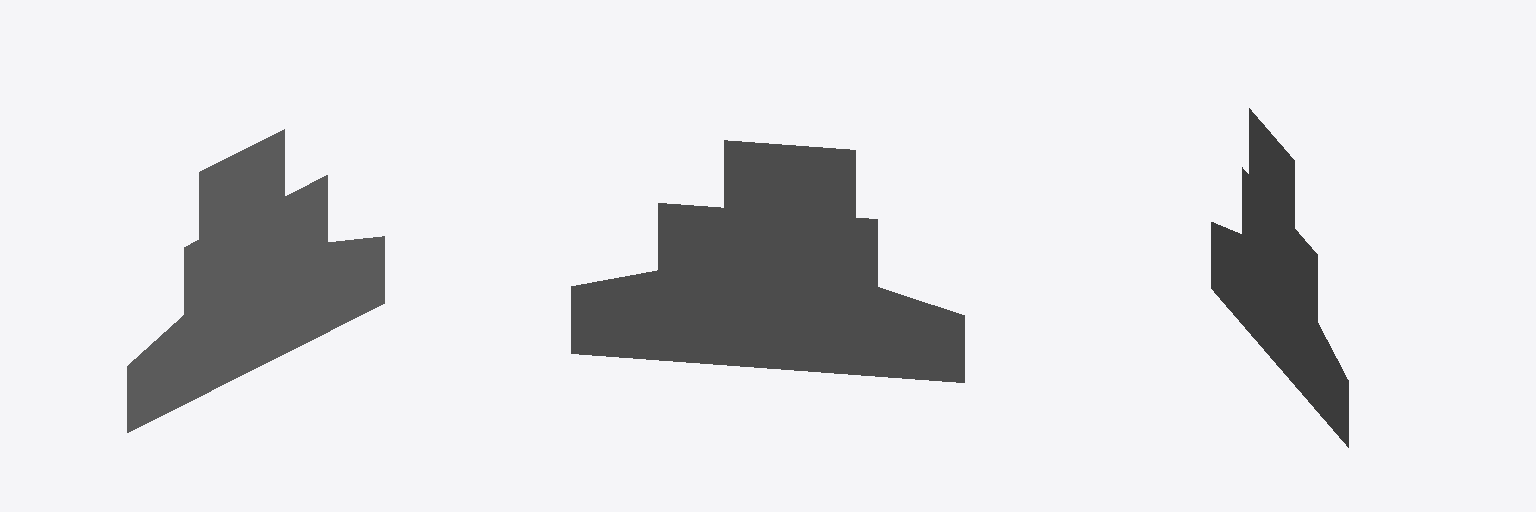
Rendered from Level2CurvyGate.obj.
3 renders of one model, left to right at view 1: azimuth 30°, elevation 25°; view 2: azimuth 150°, elevation 25°; view 3: azimuth 270°, elevation 25°, orthographic.
Visible parts, largest first — view 1: Level2CurvyGate:pPlane1; view 2: Level2CurvyGate:pPlane1; view 3: Level2CurvyGate:pPlane1.
Part boxes in pixels (x1,y1,x2,y2): Level2CurvyGate:pPlane1: (127,129,384,432); Level2CurvyGate:pPlane1: (571,140,964,382); Level2CurvyGate:pPlane1: (1211,108,1348,447).
Bounding box in the file's own units: 10.8 × 7.13 × 3.94.